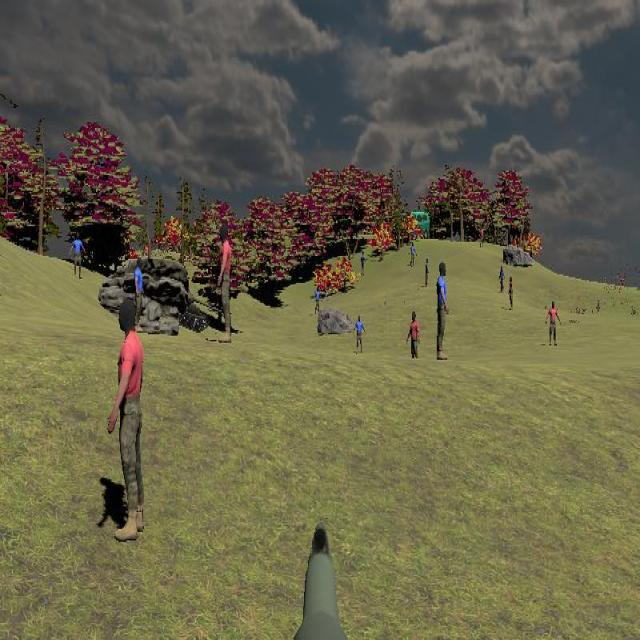Human: (108, 301, 146, 542), (135, 258, 146, 337), (406, 312, 420, 372), (70, 231, 85, 280), (546, 301, 561, 347), (353, 316, 366, 355)
